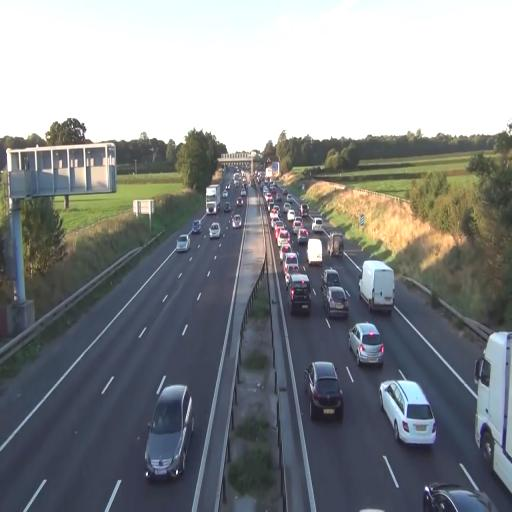vehicle: (474, 331, 512, 496), (144, 381, 194, 481), (379, 375, 436, 446), (422, 461, 498, 510), (306, 360, 343, 421), (358, 258, 396, 316), (420, 484, 496, 512), (359, 258, 395, 316), (349, 322, 385, 366), (322, 285, 350, 325), (288, 272, 312, 316), (283, 250, 299, 278), (206, 184, 220, 214), (176, 233, 190, 252), (209, 221, 221, 238), (190, 220, 202, 236), (232, 214, 242, 229)
